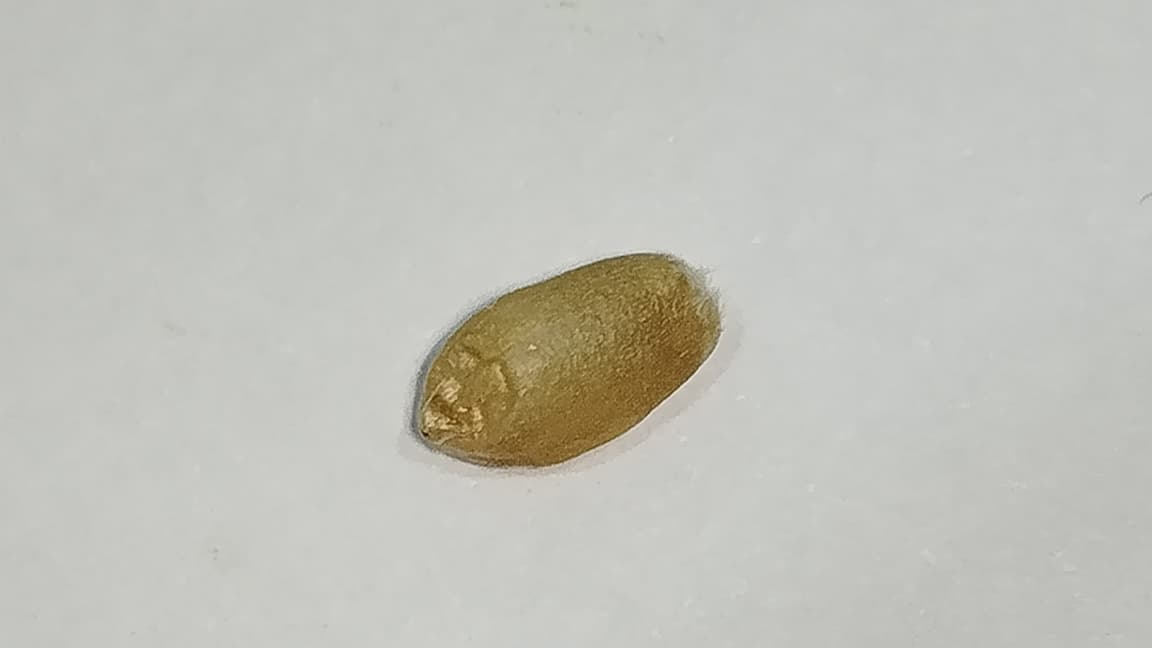healthy: (415, 252, 721, 466)
